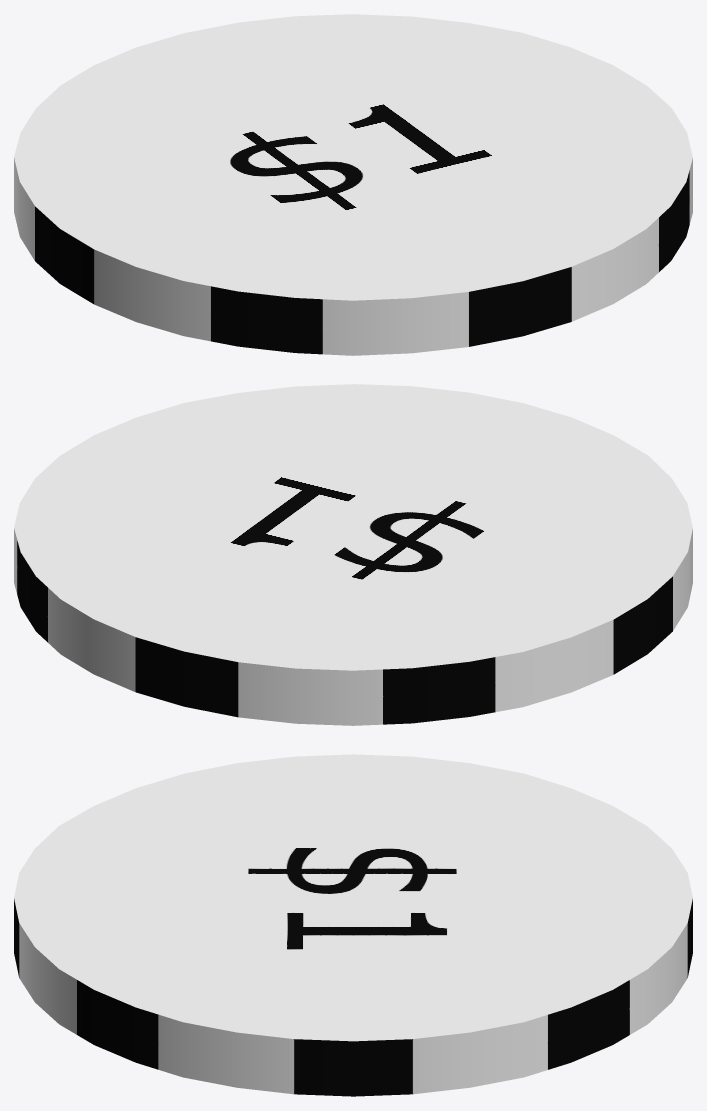
File: chip.obj
3 renders of one model, top to bottom at view 1: azimuth 30°, elevation 25°; view 2: azimuth 150°, elevation 25°; view 3: azimuth 270°, elevation 25°, orthographic.
Visible parts, largest first — view 1: Cylinder001; view 2: Cylinder001; view 3: Cylinder001.
Part boxes in pixels (x1=…): Cylinder001: x1=14, y1=14, x2=692, y2=355; Cylinder001: x1=14, y1=384, x2=692, y2=725; Cylinder001: x1=14, y1=754, x2=692, y2=1096.
Bounding box in the file's own units: 0.039 × 0.0035 × 0.039.
